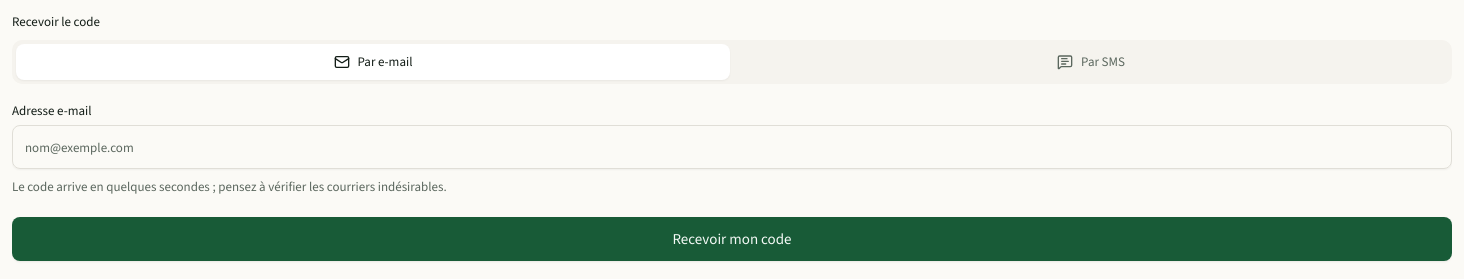
Test: OtpLoginFlow › refuse un numéro invalide sans appeler l'API
The width and height of the screenshot is (1464, 279).
Click the button "Par SMS". click: (1091, 62)
box: [734, 44, 1448, 80]
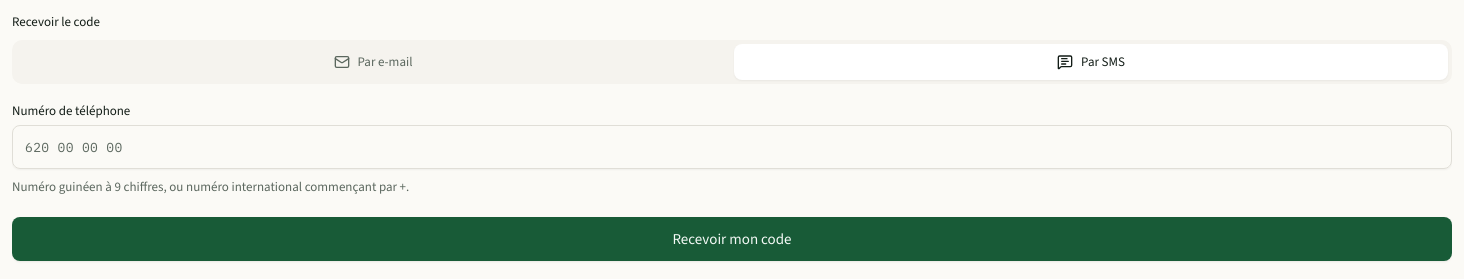
Type "123" into the field labelled "Numéro de téléphone". click: (732, 147)
box: [12, 125, 1452, 169]
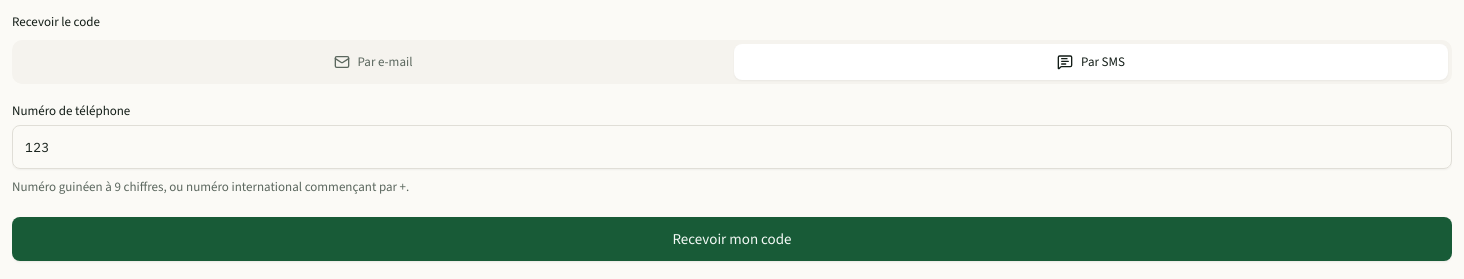
Click the button "Recevoir mon code". click: (732, 239)
box: [12, 217, 1452, 261]
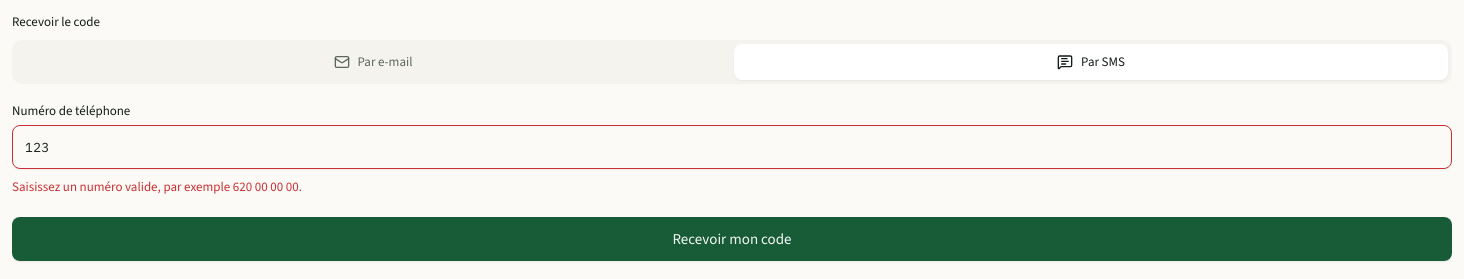
Now the text "Saisissez un numéro valide, par exemple 620 00 00 00." is shown, box [12, 178, 302, 195]
